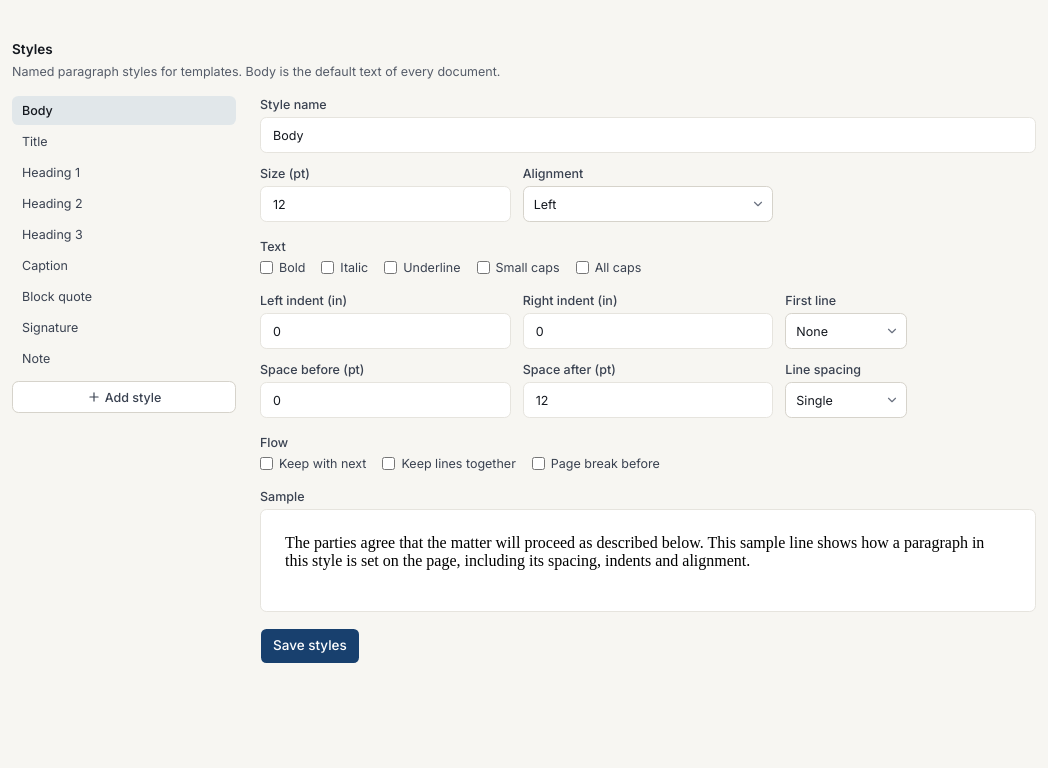
Test case: ParagraphStylesForm › Add style copies the selected style under a new name
The image size is (1048, 768).
Click the button "Title". click: (124, 142)
box: [12,127,236,156]
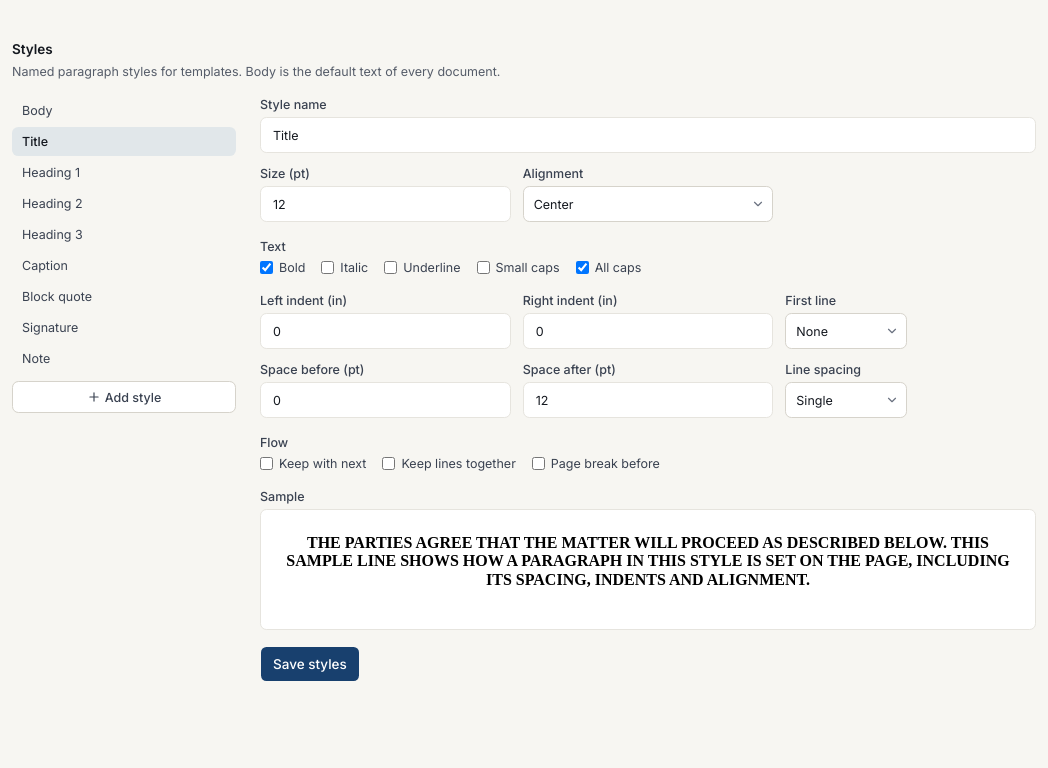
Click the button "Add style". click: (124, 397)
box: [12,381,236,413]
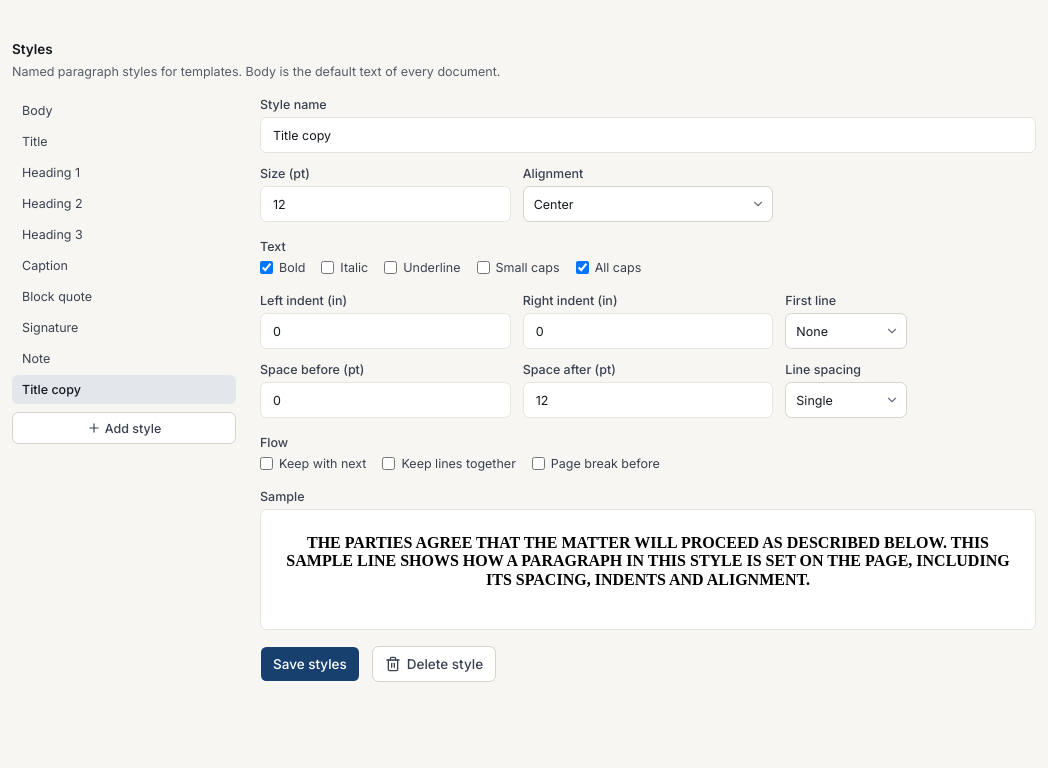
Expected: the checkbox labelled "Bold" is checked, [260,261,273,274]
Expected: the button "Title copy" is shown, [12,375,236,404]
Expected: the field labelled "Style name" holds "Title copy", [260,117,1036,153]
